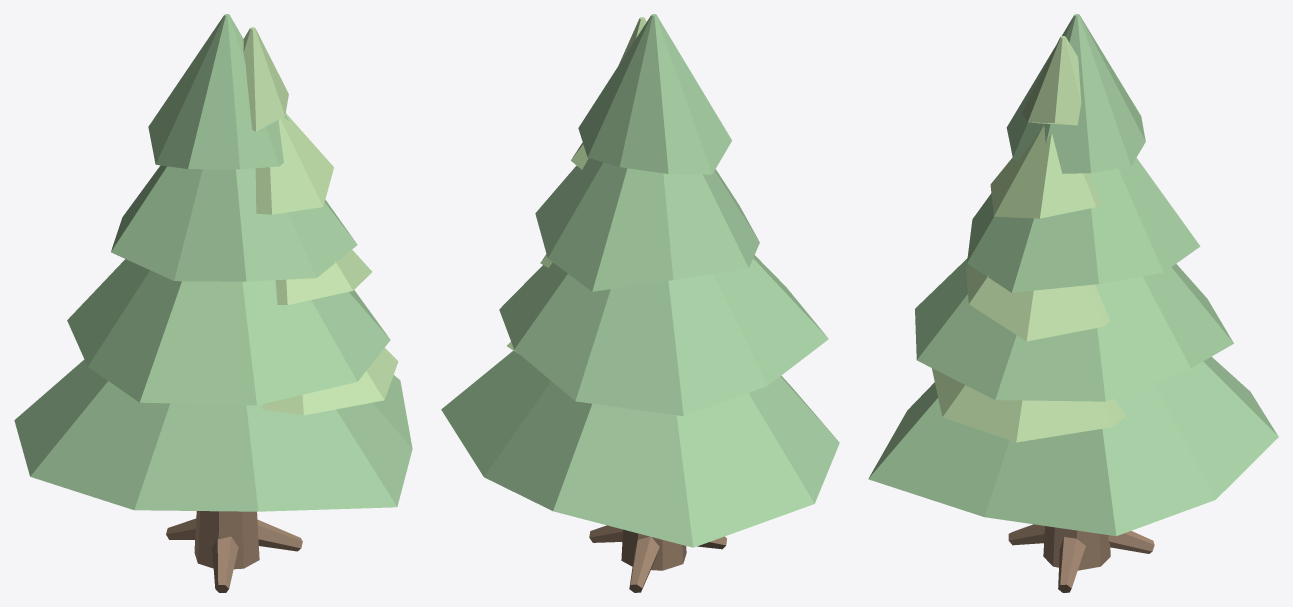
The model's file is prop_pine.glb.
3 views of the same model, side by side, from view 1: azimuth 30°, elevation 25°; view 2: azimuth 150°, elevation 25°; view 3: azimuth 270°, elevation 25° (orthographic).
Visible parts, largest first — view 1: prop_pine; view 2: prop_pine; view 3: prop_pine.
Part boxes in pixels (x1,y1,x2,y2): prop_pine: [14, 14, 412, 592]; prop_pine: [441, 14, 839, 592]; prop_pine: [868, 14, 1278, 592].
Size of the model in its own units: 3.06 by 4.29 by 2.92.
